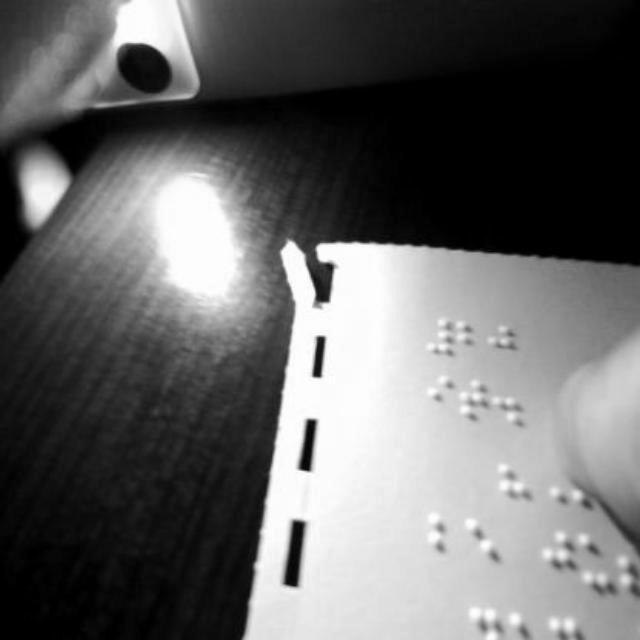braiile: (465, 512, 501, 582), (426, 508, 458, 574), (459, 374, 491, 438), (428, 371, 457, 429), (458, 312, 486, 366), (489, 319, 516, 369)
